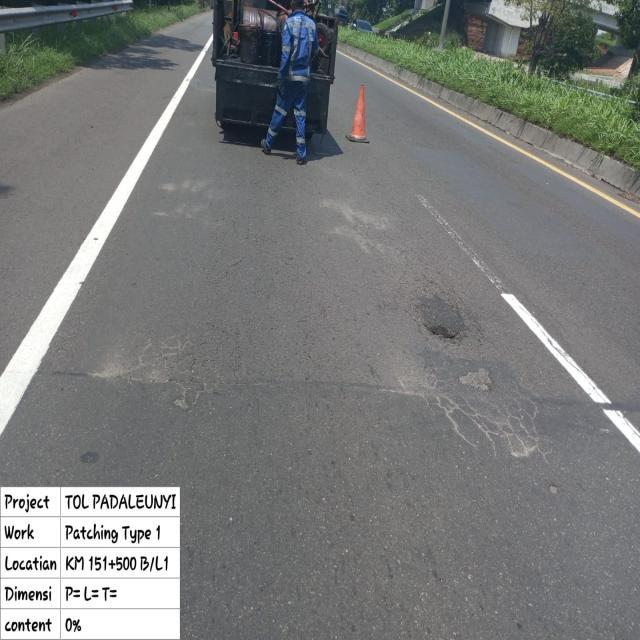Buraco: (409, 313, 469, 352), (455, 364, 496, 394)
